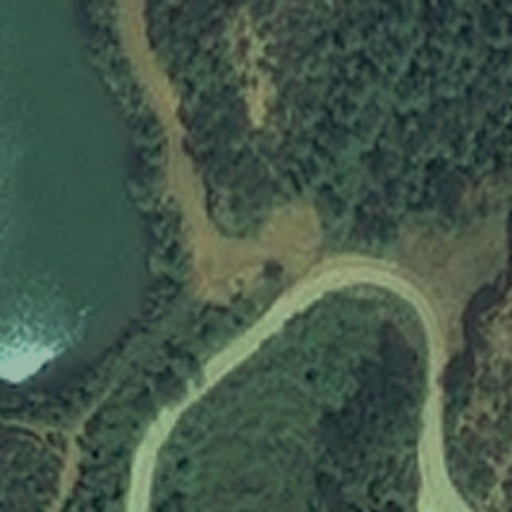landslide: (187, 201, 321, 298)
